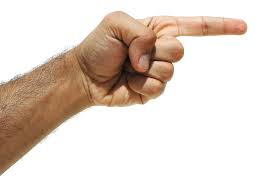hand: (57, 3, 256, 116)
